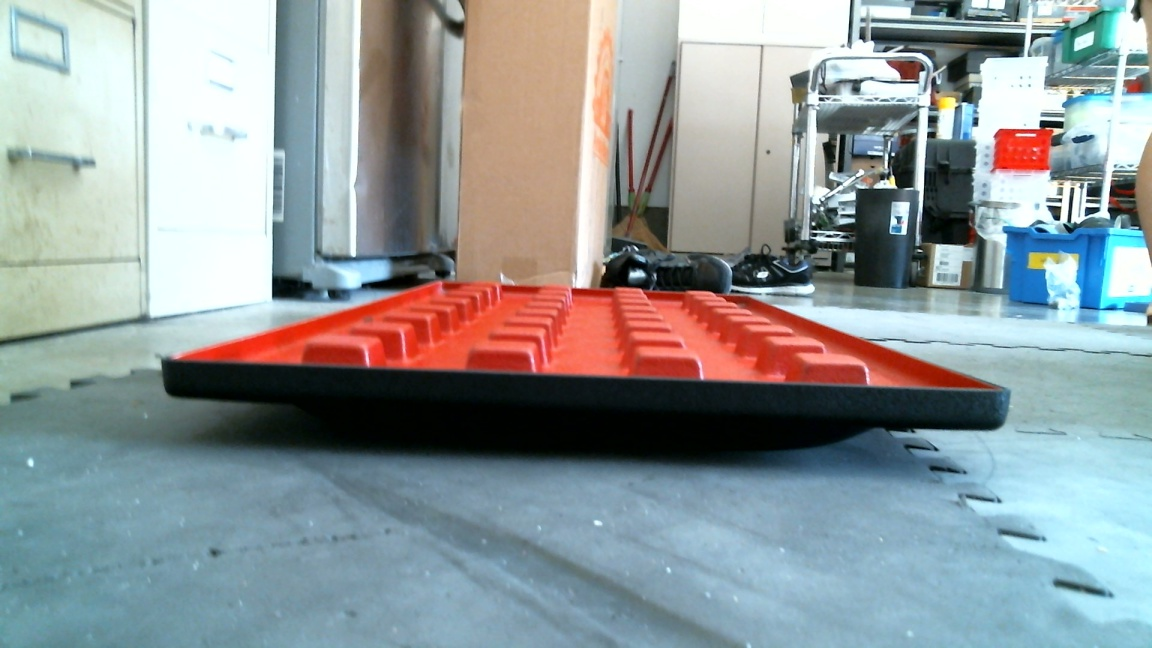red_foundation: (161, 282, 1012, 469)
